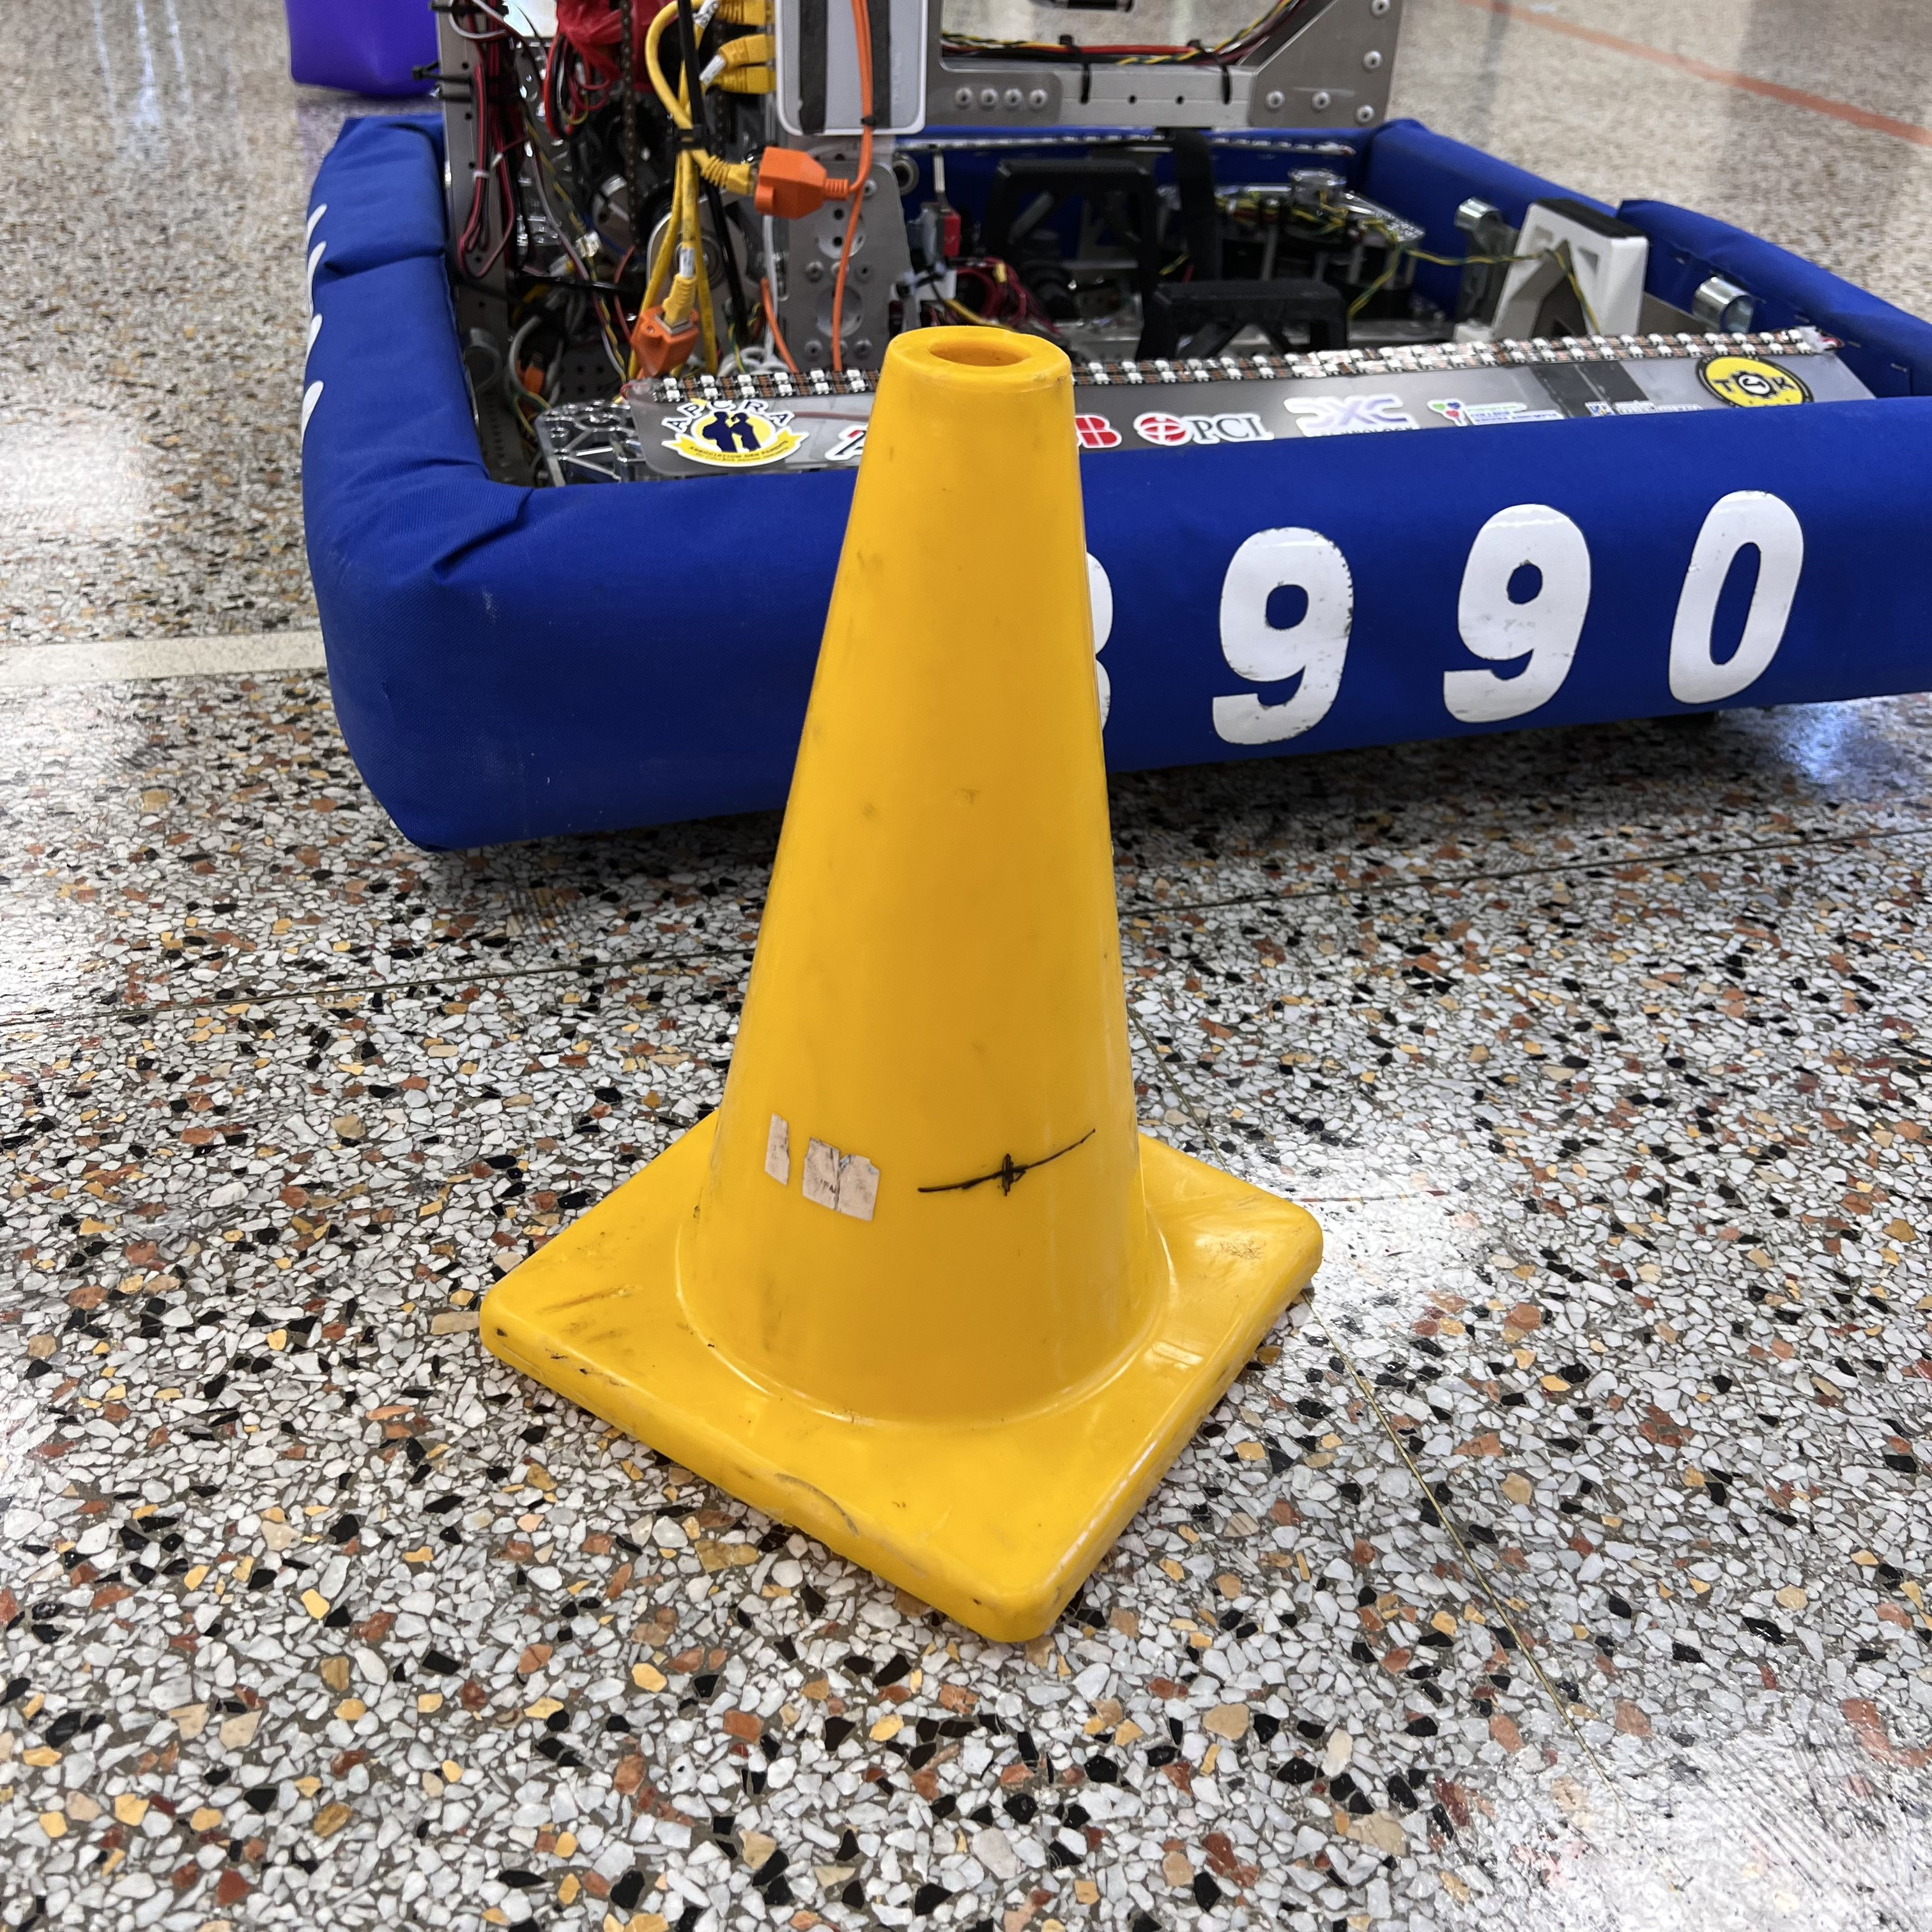cone: (479, 324, 1323, 1642)
cube: (276, 0, 458, 99)
